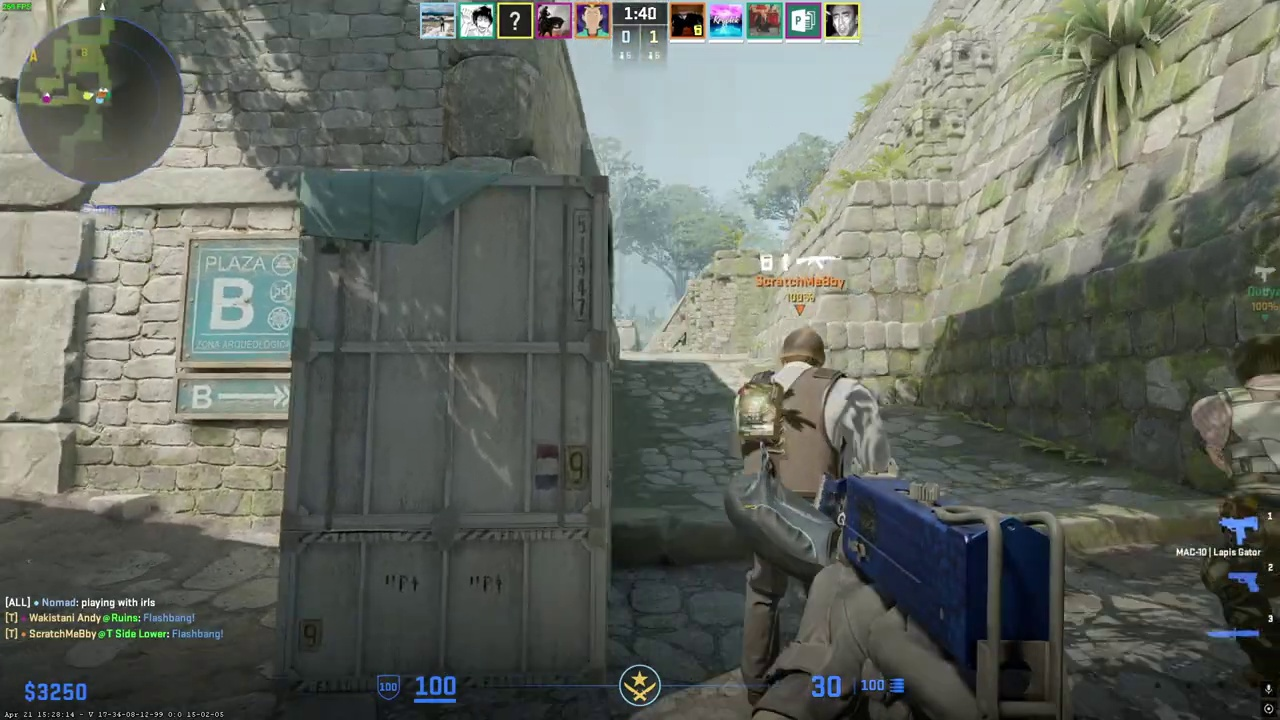Terrorist: (724, 324, 888, 717), (1191, 334, 1280, 703)
